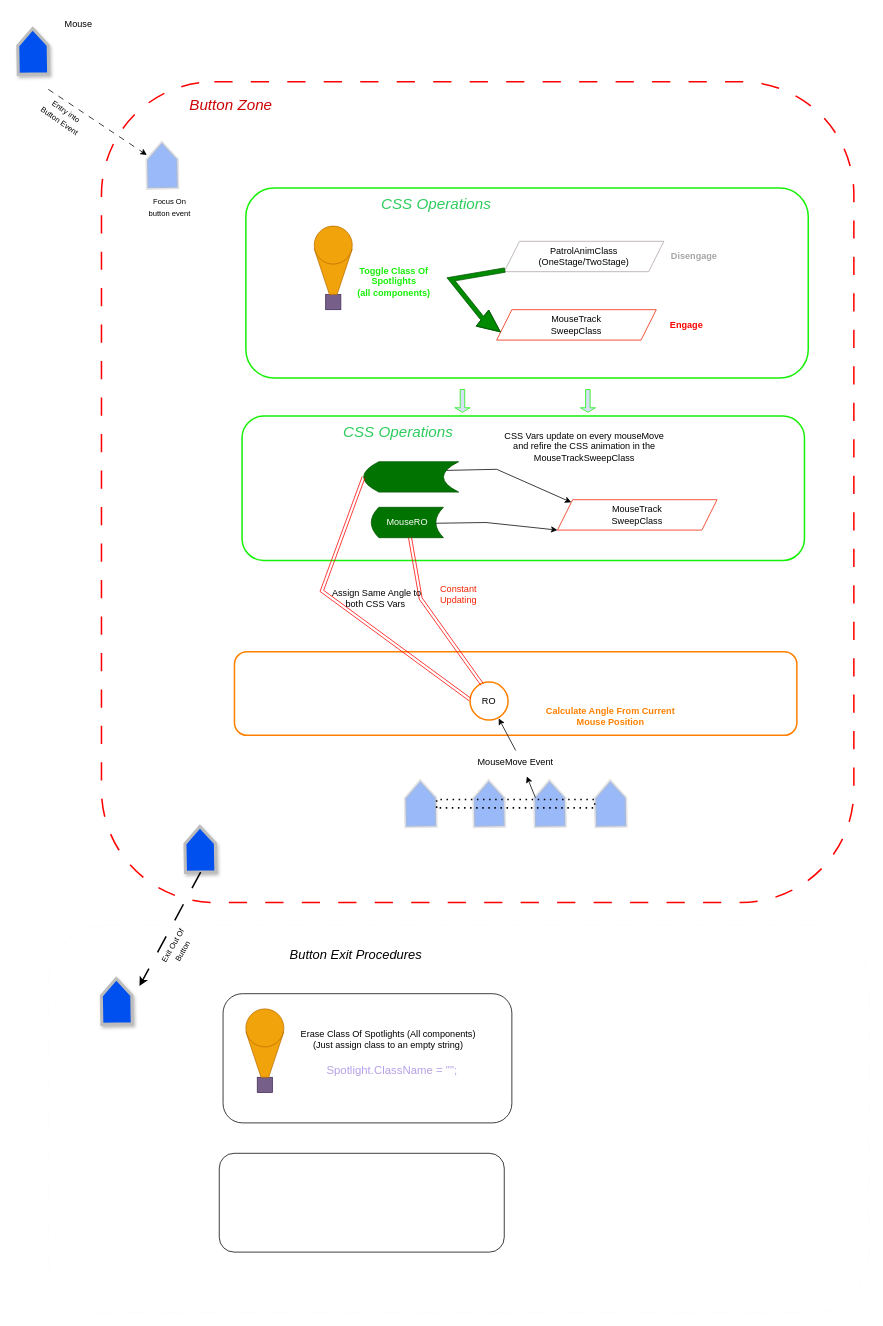
Some shapes in this 883 by 1326 pixel diagram are drawn without their labels. The shapes that lost their labels are listed below. From the top down, each one's centre as x and y in pixels, then its label:
At (411,476): "PrevFrameRO".
At (361,1202): "Restart Spotlight Patrol Loop".
